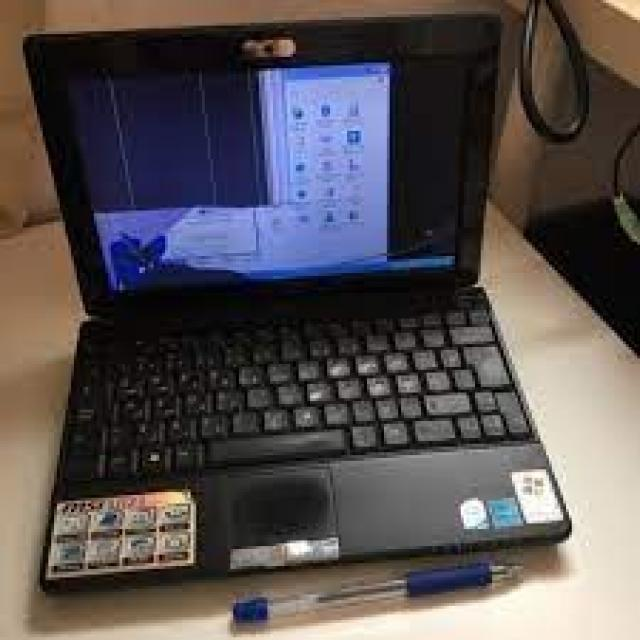Screen cracks: (91, 214, 265, 302)
